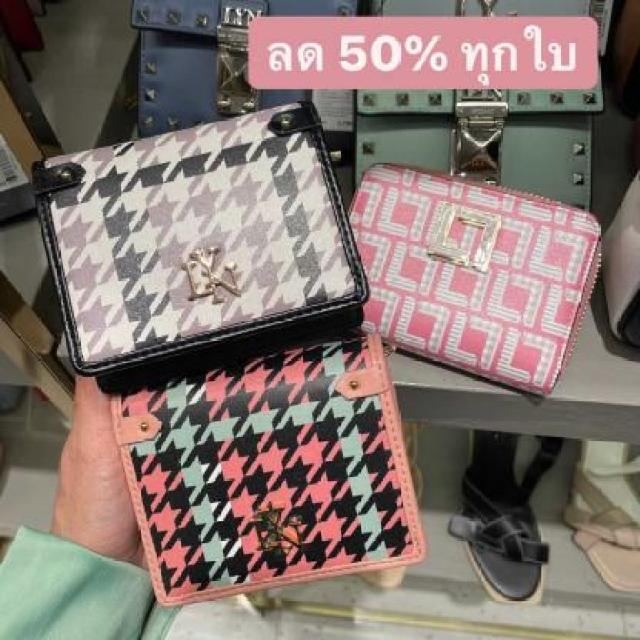Bag: (22, 98, 444, 371), (81, 352, 485, 618), (321, 105, 640, 408)
